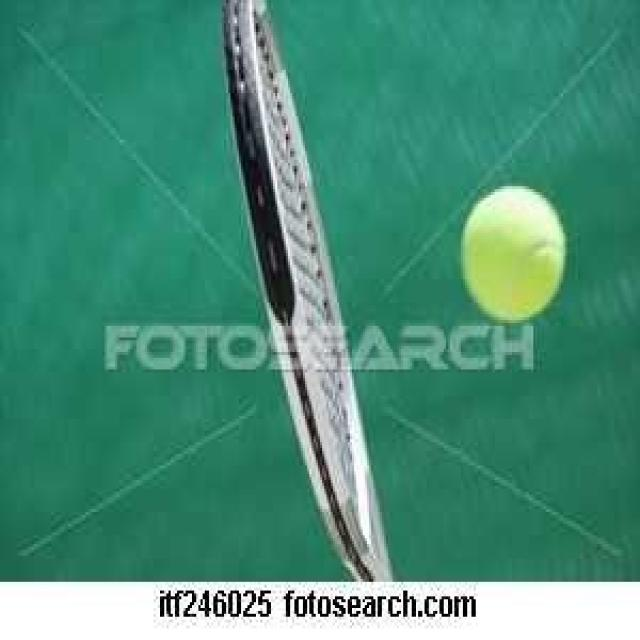Tennis_Ball: (459, 185, 568, 318)
